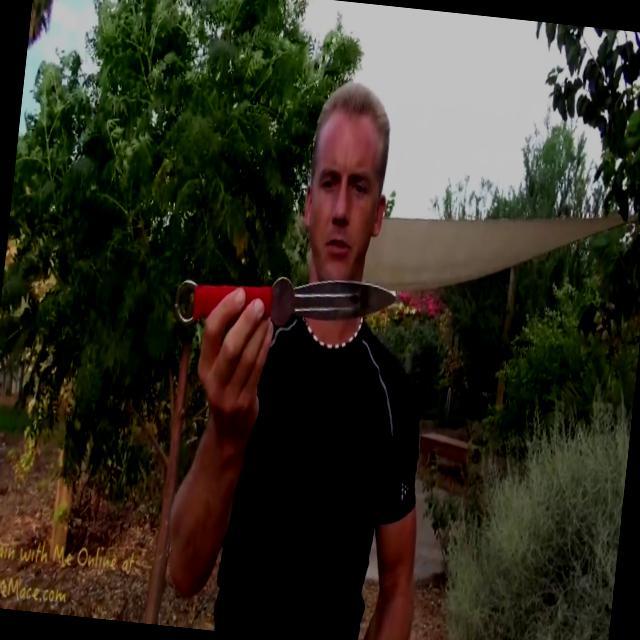knife: (156, 236, 404, 372)
